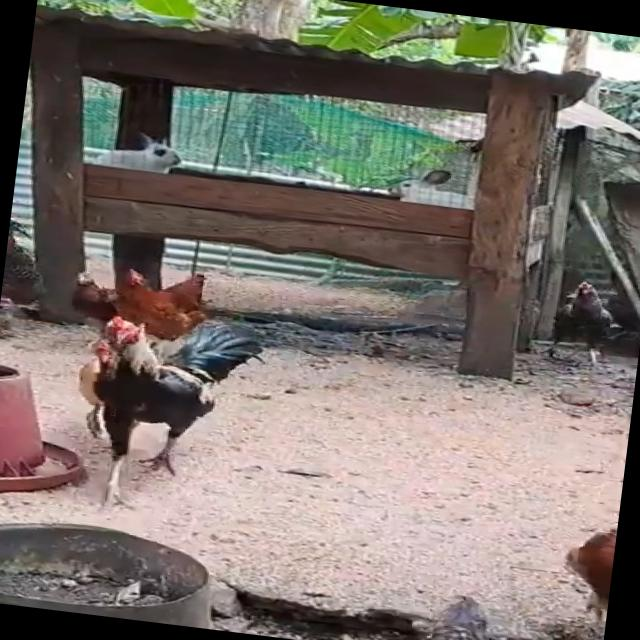running: (50, 296, 264, 514)
